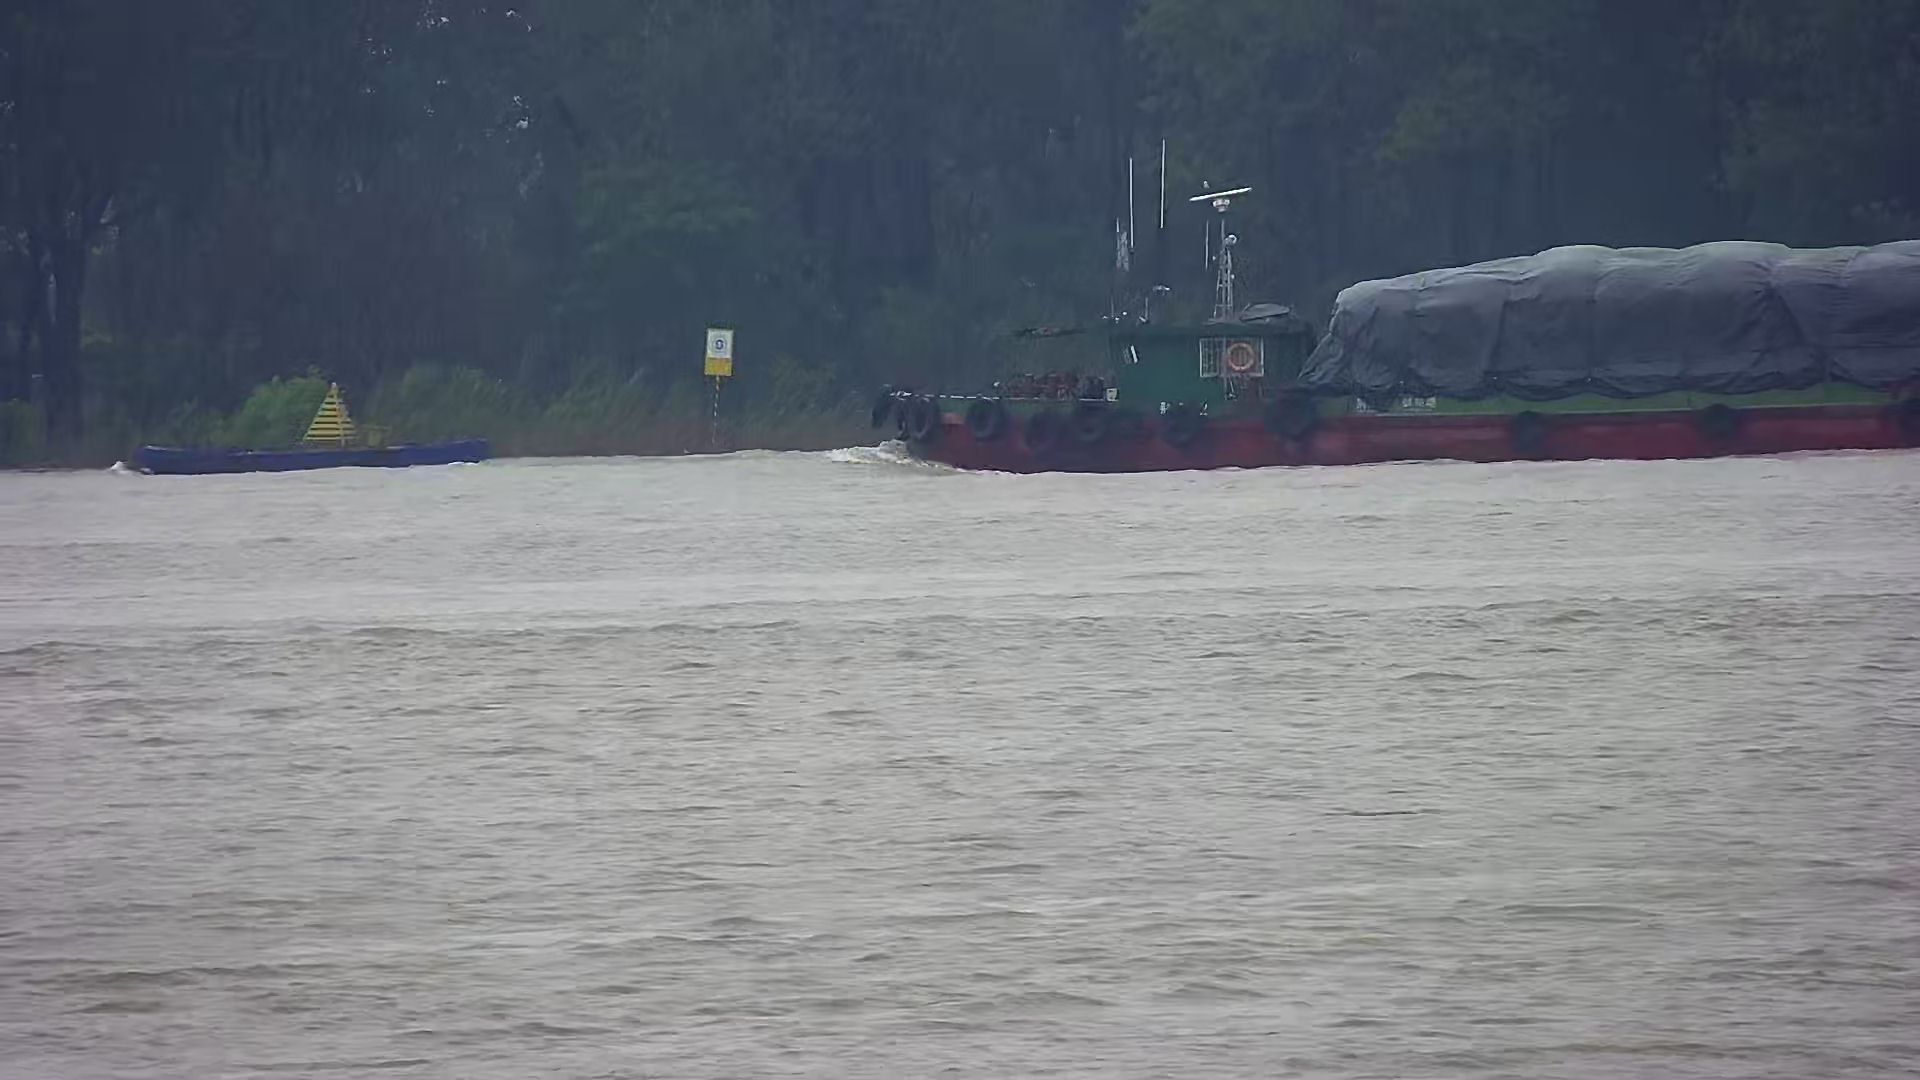boat: (144, 378, 485, 476)
mast: (705, 327, 732, 459)
ship: (862, 185, 1920, 473)
